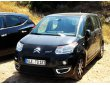License Plates: (24, 57, 44, 63)
